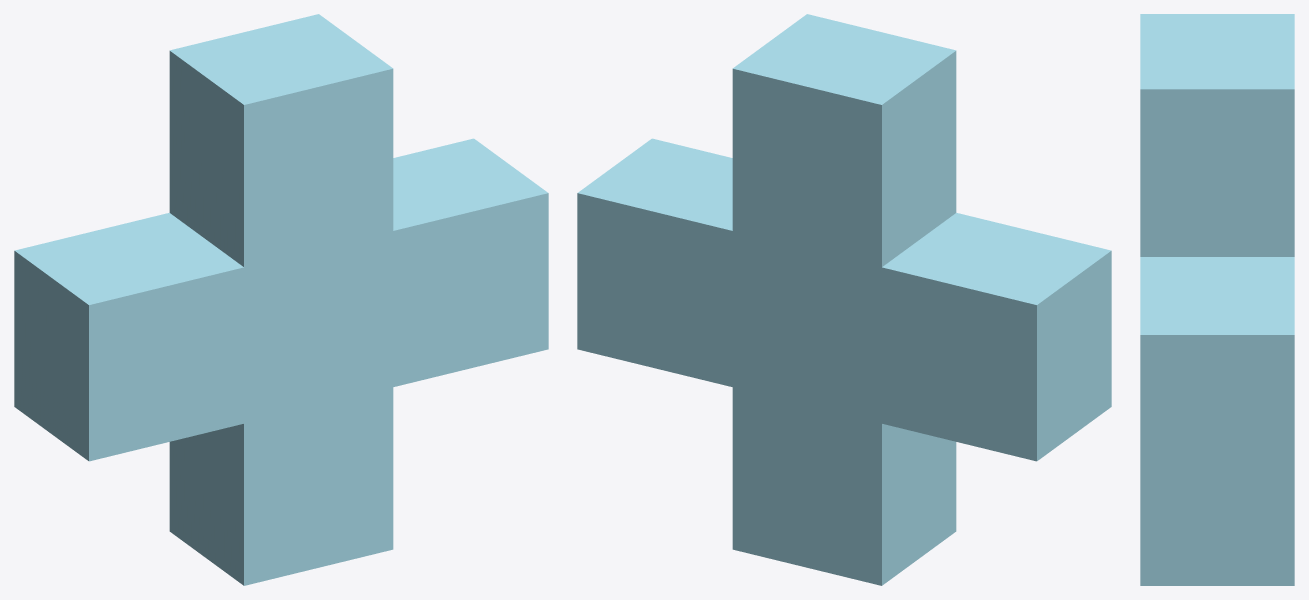
The model's file is StruggleOrbPlus.glb.
3 renders of one model, left to right at view 1: azimuth 30°, elevation 25°; view 2: azimuth 150°, elevation 25°; view 3: azimuth 270°, elevation 25°, orthographic. The views are drawn at different scales.
Parts seen in each view (by area): view 1: Orb; view 2: Orb; view 3: Orb.
Boxes of the visible parts, left/top/right/bottom form: Orb: left=14, top=14, right=548, bottom=585; Orb: left=577, top=14, right=1111, bottom=585; Orb: left=1140, top=14, right=1294, bottom=585.
Size of the model in its own units: 1.6 by 1.6 by 0.45.
